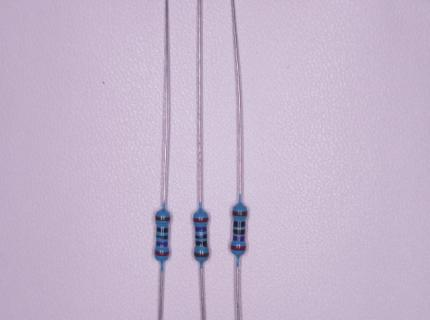Black band: (233, 229, 245, 235), (233, 221, 245, 227), (196, 241, 207, 247), (195, 234, 207, 239), (156, 227, 168, 232), (156, 234, 168, 239)
Brown band: (194, 251, 209, 257), (232, 210, 247, 216), (155, 216, 170, 221)
Red band: (231, 245, 246, 251), (155, 251, 169, 256), (194, 218, 208, 223)
Violet band: (156, 240, 167, 246), (233, 236, 245, 241), (195, 227, 207, 232)
